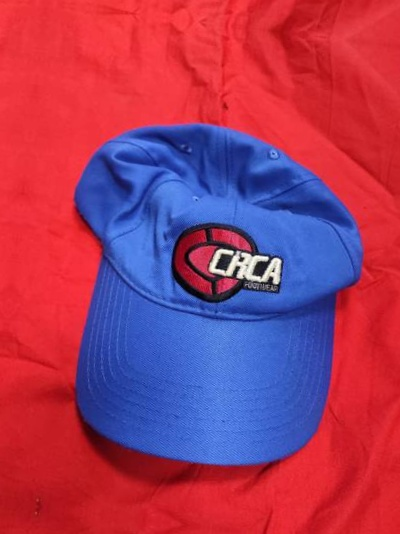Hat: (19, 63, 399, 489), (0, 15, 10, 441)
